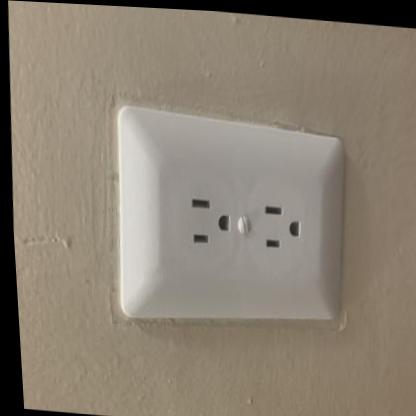OUTLET: (106, 103, 357, 330)
